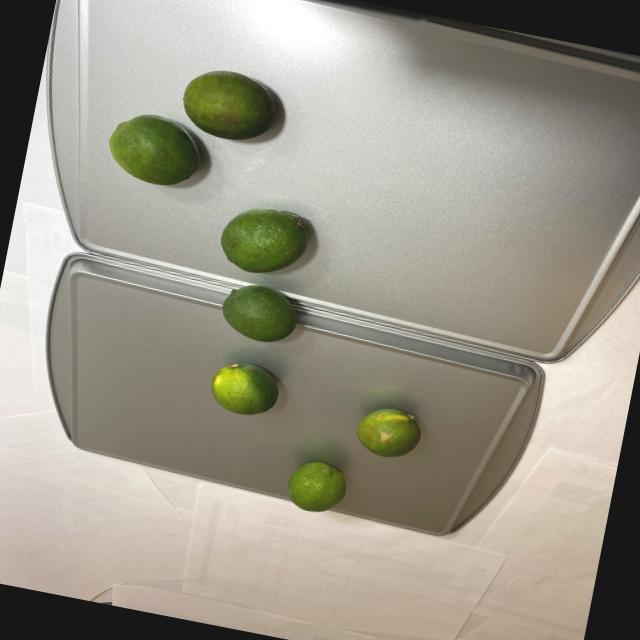lemon: (43, 45, 485, 530)
